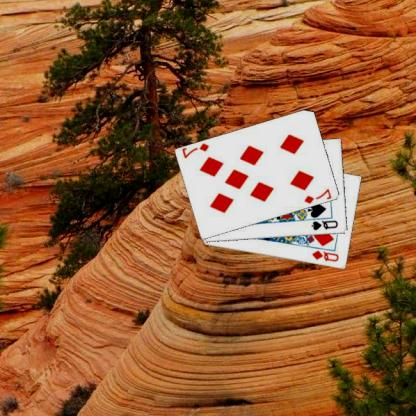7D: (303, 186, 334, 205), (182, 141, 212, 160)
QD: (311, 248, 342, 263)
QS: (311, 218, 341, 232)
